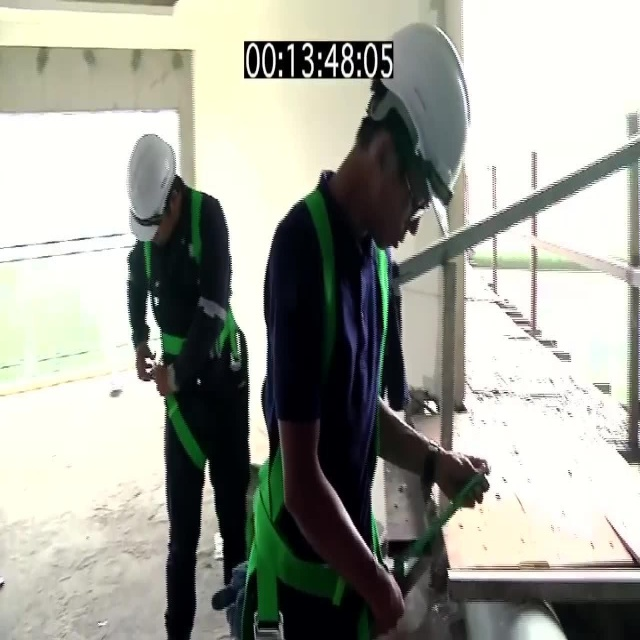Arnes_seguridad: (252, 189, 393, 611), (146, 177, 239, 474)
